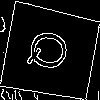Q: (25, 27, 78, 75)
